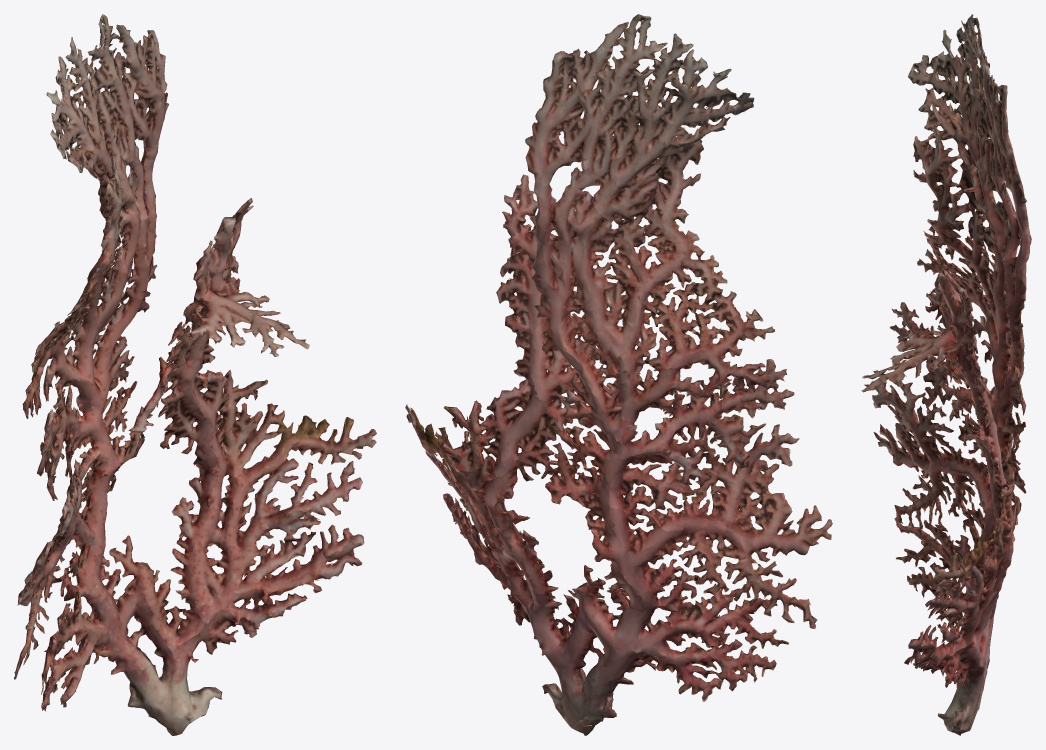
File: coral5.fbx
The picture shows the model from 3 angles, left to right: view 1: azimuth 30°, elevation 25°; view 2: azimuth 150°, elevation 25°; view 3: azimuth 270°, elevation 25°; orthographic projection. The views are drawn at different scales.
Parts seen in each view (by area): view 1: Mesh_0.003; view 2: Mesh_0.003; view 3: Mesh_0.003.
Part boxes in pixels (x1=…): Mesh_0.003: x1=14, y1=14, x2=376, y2=735; Mesh_0.003: x1=405, y1=14, x2=832, y2=735; Mesh_0.003: x1=861, y1=14, x2=1031, y2=735.
Size of the model in its own units: 9.5 by 17.03 by 3.81.
1 material, 1 textured.
